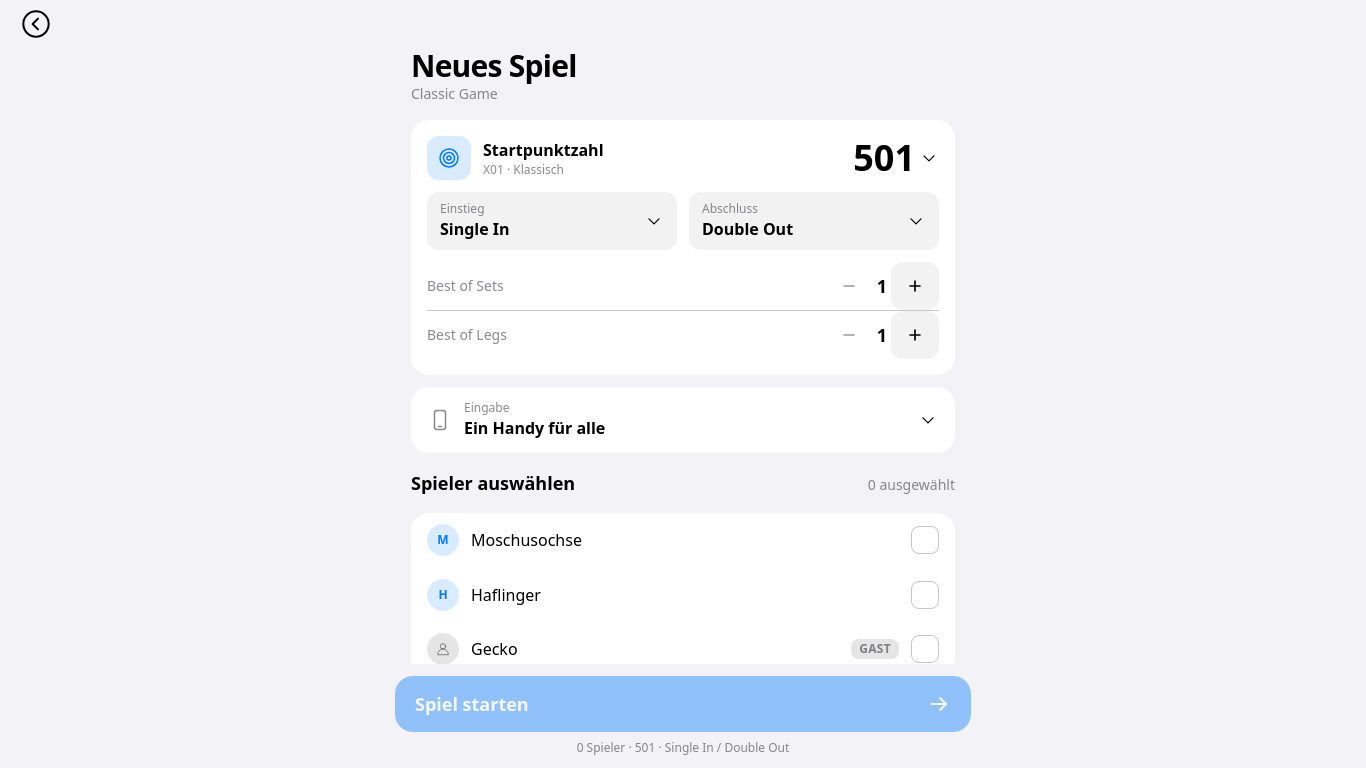
X01Setup › sets and legs are choosable with 2 players and locked to 1 from 3 players on (E7)
Click the button "M Moschusochse" at coordinates (443, 540), box [427,513,939,567]
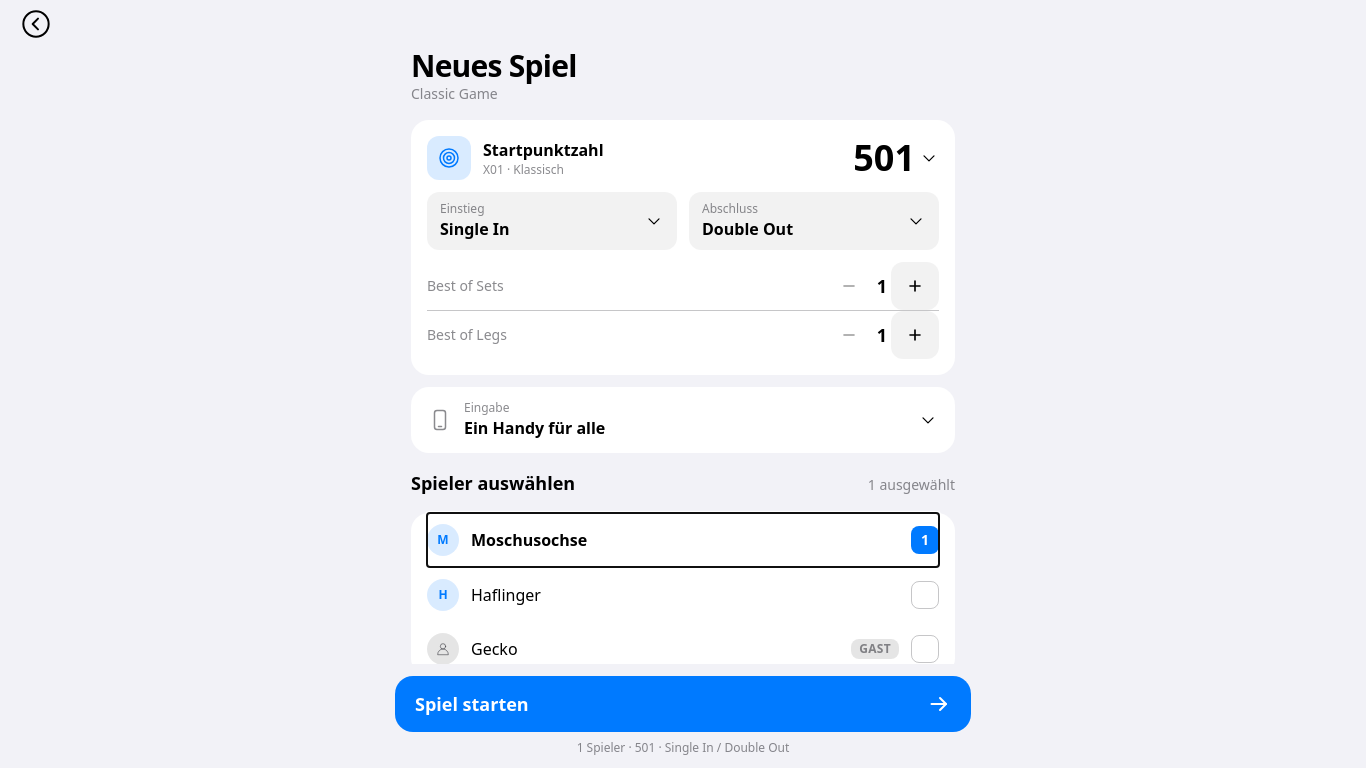
Click the button "H Haflinger" at coordinates (443, 595), box [427,567,939,622]
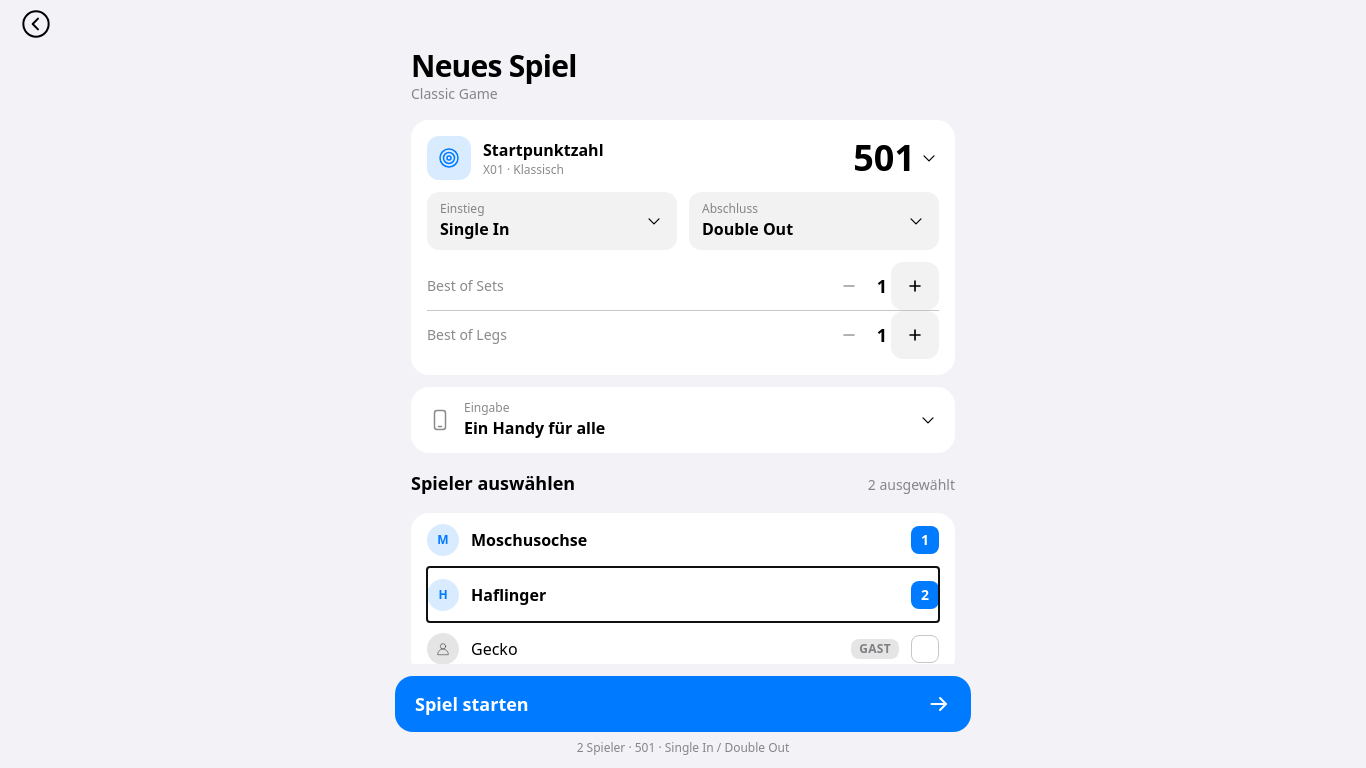
Click the button named "Best of Legs mehr" at coordinates (915, 335), box [891,311,939,359]
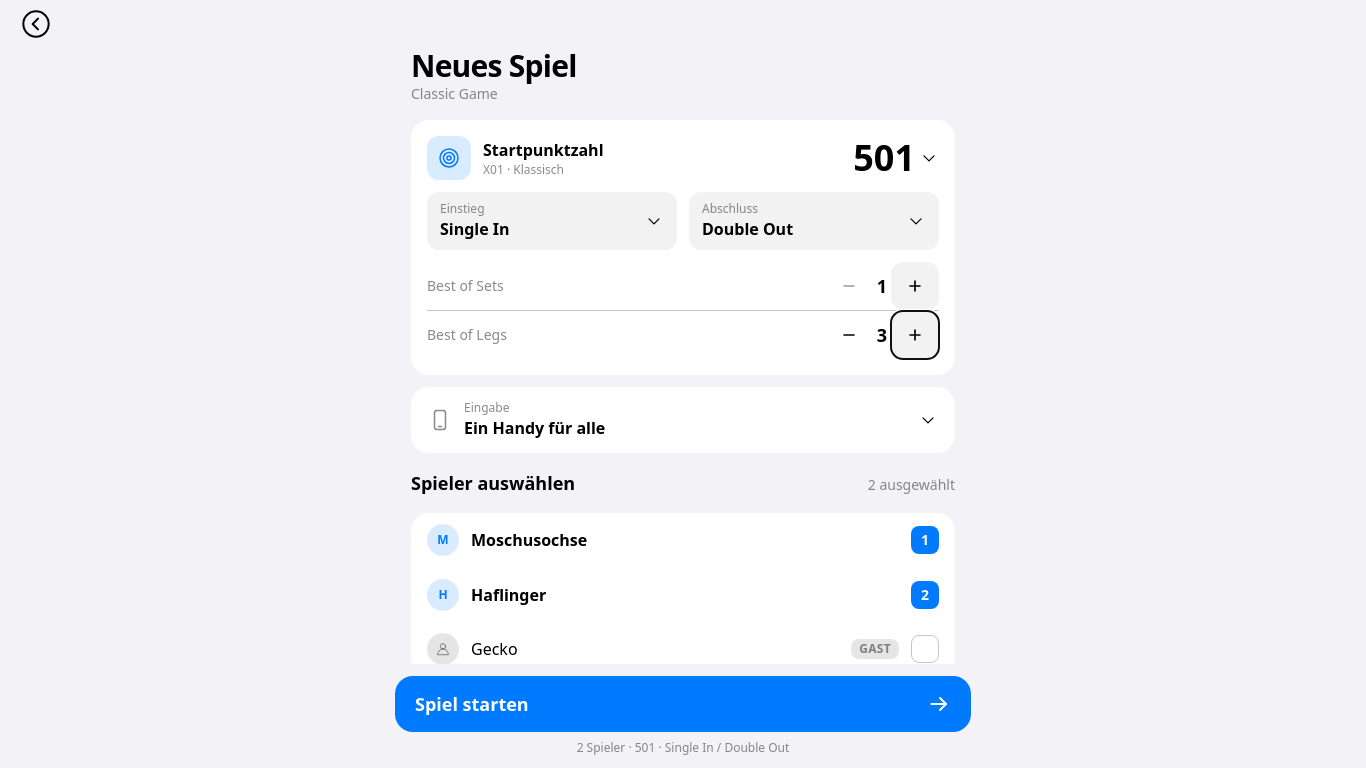
Expected: the element named "legsToWinSet" holds "3", [427,311,939,359]
Click the button "Gecko Gast" at coordinates (443, 649), box [427,622,939,676]
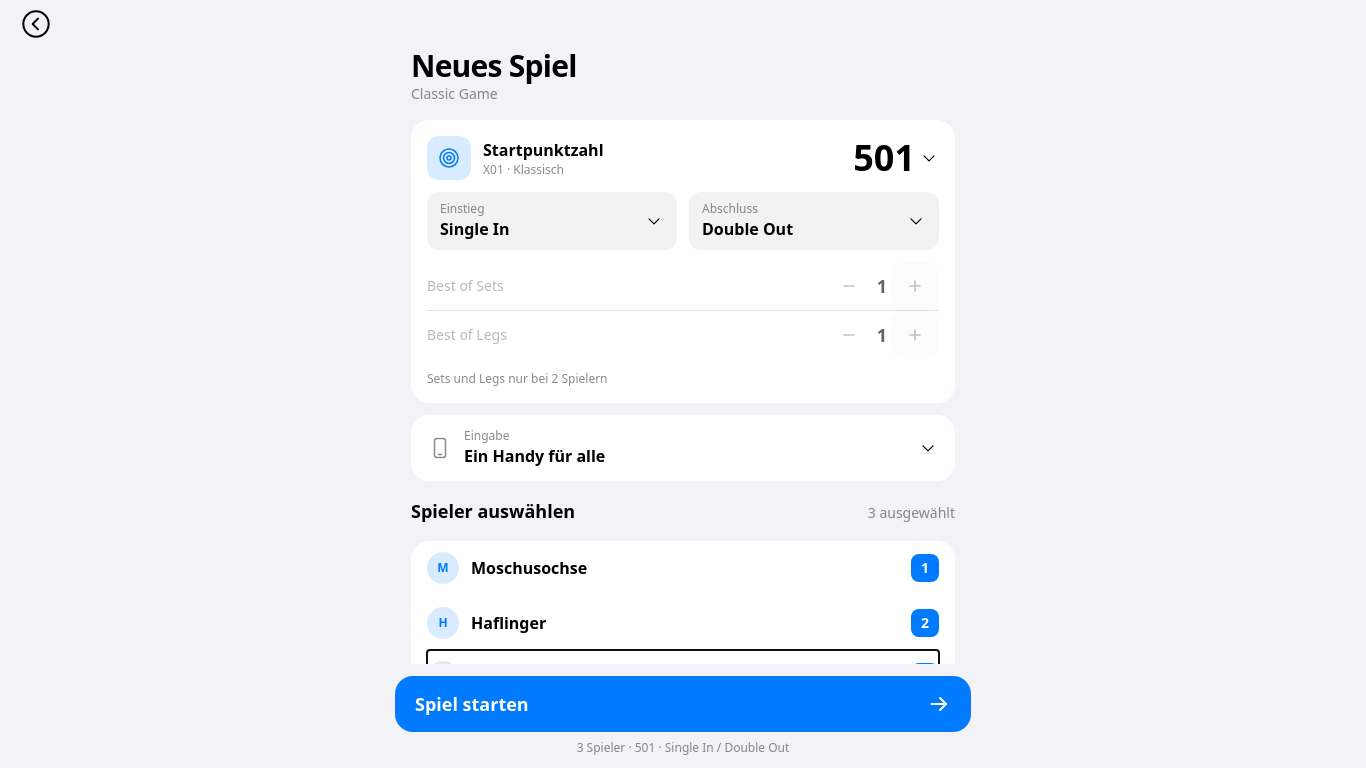
Expected: the element named "legsToWinSet" holds "1", [427,311,939,359]
Expected: the button named "Best of Legs mehr" is disabled, [891,311,939,359]
Expected: the text "Sets und Legs nur bei 2 Spielern" is shown, [427,370,608,387]
